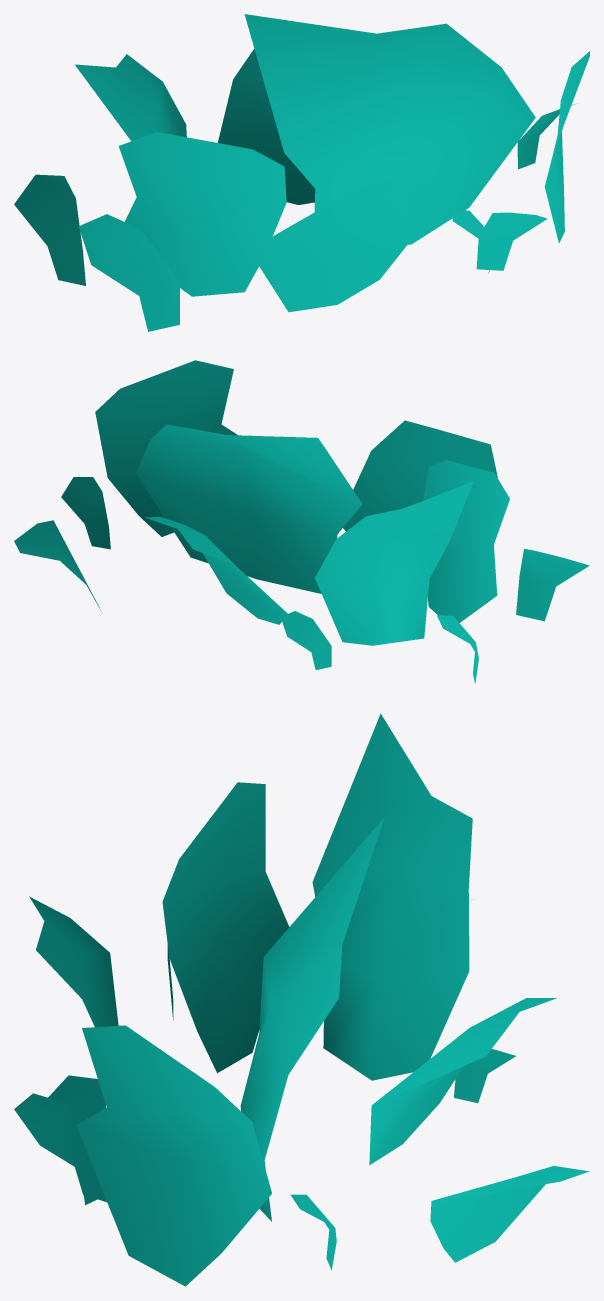
File: SM_NewGrass02.fbx
3 renders of one model, top to bottom at view 1: azimuth 30°, elevation 25°; view 2: azimuth 150°, elevation 25°; view 3: azimuth 270°, elevation 25°, orthographic. The views are drawn at different scales.
Visible parts, largest first — view 1: NewGrass02; view 2: NewGrass02; view 3: NewGrass02.
Boxes of the visible parts, left/top/right/bottom form: NewGrass02: left=14, top=14, right=589, bottom=331; NewGrass02: left=14, top=360, right=589, bottom=683; NewGrass02: left=14, top=713, right=589, bottom=1286.
Bounding box in the file's own units: 60.71 × 24.74 × 41.83.
